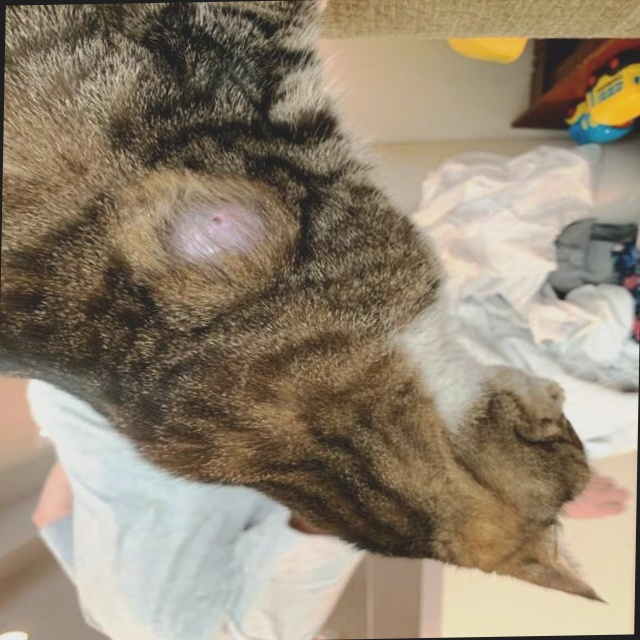lump_and_bump: (160, 197, 268, 271)
